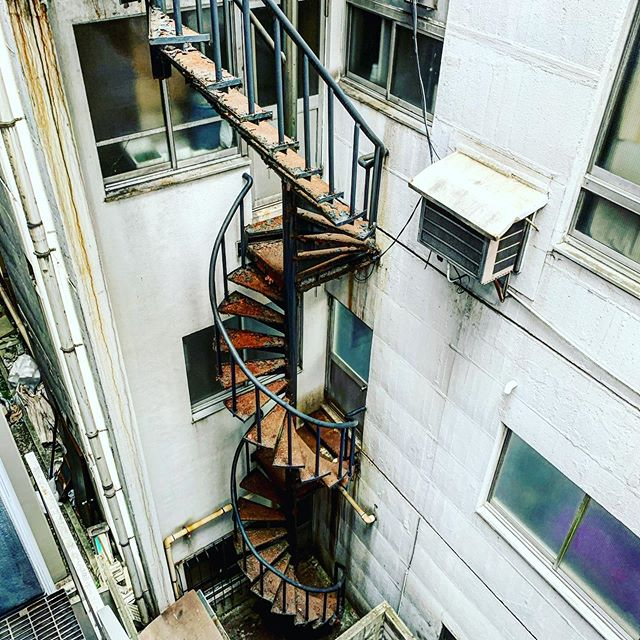building: (5, 1, 640, 632)
window: (58, 1, 266, 187), (480, 427, 640, 640), (315, 1, 469, 151), (559, 3, 640, 269)
